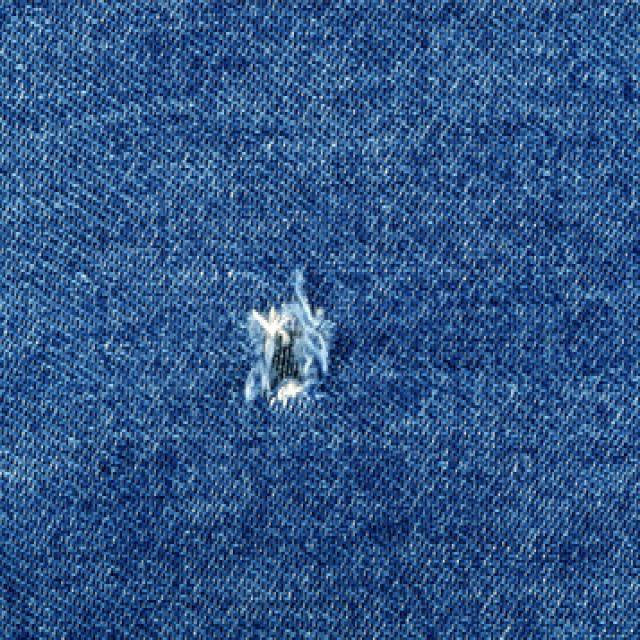Hole: (245, 269, 334, 407)
